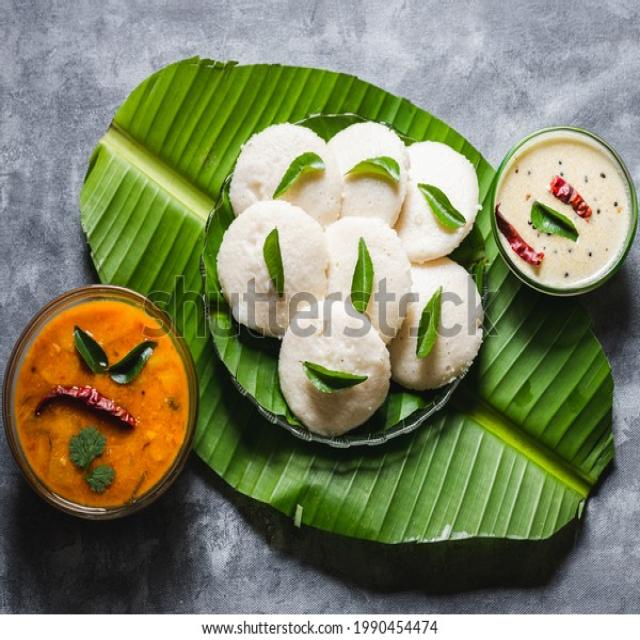IDLI: (279, 292, 389, 435), (218, 200, 327, 334), (389, 260, 482, 388), (229, 124, 342, 225), (326, 218, 411, 342), (400, 141, 480, 261), (327, 122, 409, 227)
